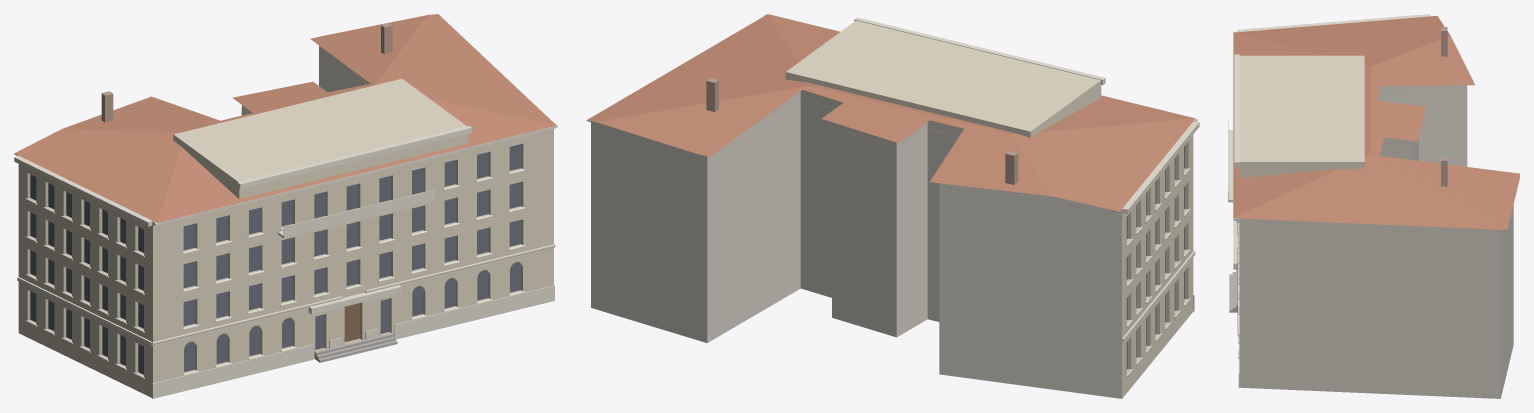
The picture shows the model from 3 angles, left to right: view 1: azimuth 30°, elevation 25°; view 2: azimuth 150°, elevation 25°; view 3: azimuth 270°, elevation 25°; orthographic projection. The views are drawn at different scales.
Visible parts, largest first — view 1: CP_1733_Masonry, CP_1733_Roof, CP_1733_Attic, CP_1733_Cornice_plinth_0, CP_1733_Cornice_plinth_3, CP_1733_AtticCornice, CP_1733_BalconyRail, CP_1733_Cornice_main_0, CP_1733_Cornice_bahnhof_main, CP_1733_PortalEntablature, CP_1733_Cornice_string_0, CP_1733_Cornice_string_1 (+1 smaller); view 2: CP_1733_Masonry, CP_1733_Roof, CP_1733_Attic, CP_1733_AtticClosure, CP_1733_AtticCornice, CP_1733_Cornice_bahnhof_main; view 3: CP_1733_Masonry, CP_1733_Roof, CP_1733_Attic, CP_1733_AtticClosure, CP_1733_AtticCornice, CP_1733_Cornice_bahnhof_main, CP_1733_Balcony.
Boxes of the visible parts, bbox=[...] form: CP_1733_Masonry: bbox=[18, 46, 553, 397]; CP_1733_Roof: bbox=[14, 14, 556, 222]; CP_1733_Attic: bbox=[173, 78, 467, 199]; CP_1733_Cornice_plinth_0: bbox=[152, 344, 312, 398]; CP_1733_Cornice_plinth_3: bbox=[394, 285, 554, 339]; CP_1733_AtticCornice: bbox=[237, 126, 471, 188]; CP_1733_BalconyRail: bbox=[283, 189, 434, 236]; CP_1733_Cornice_main_0: bbox=[152, 123, 557, 226]; CP_1733_Cornice_bahnhof_main: bbox=[14, 155, 152, 226]; CP_1733_PortalEntablature: bbox=[308, 285, 401, 314]; CP_1733_Cornice_string_0: bbox=[152, 296, 342, 345]; CP_1733_Cornice_string_1: bbox=[365, 244, 555, 292]; CP_1733_Masonry: bbox=[591, 98, 1193, 398]; CP_1733_Roof: bbox=[587, 14, 1195, 211]; CP_1733_Attic: bbox=[785, 20, 1101, 137]; CP_1733_AtticClosure: bbox=[752, 90, 1081, 203]; CP_1733_AtticCornice: bbox=[854, 17, 1105, 85]; CP_1733_Cornice_bahnhof_main: bbox=[1122, 121, 1199, 214]; CP_1733_Masonry: bbox=[1239, 86, 1513, 398]; CP_1733_Roof: bbox=[1233, 16, 1519, 229]; CP_1733_Attic: bbox=[1239, 55, 1364, 177]; CP_1733_AtticClosure: bbox=[1379, 85, 1466, 146]; CP_1733_AtticCornice: bbox=[1234, 54, 1239, 166]; CP_1733_Cornice_bahnhof_main: bbox=[1238, 14, 1430, 31]; CP_1733_Balcony: bbox=[1228, 130, 1233, 202].
Bounding box in the file's own units: 44.94 × 19.5 × 25.63.
